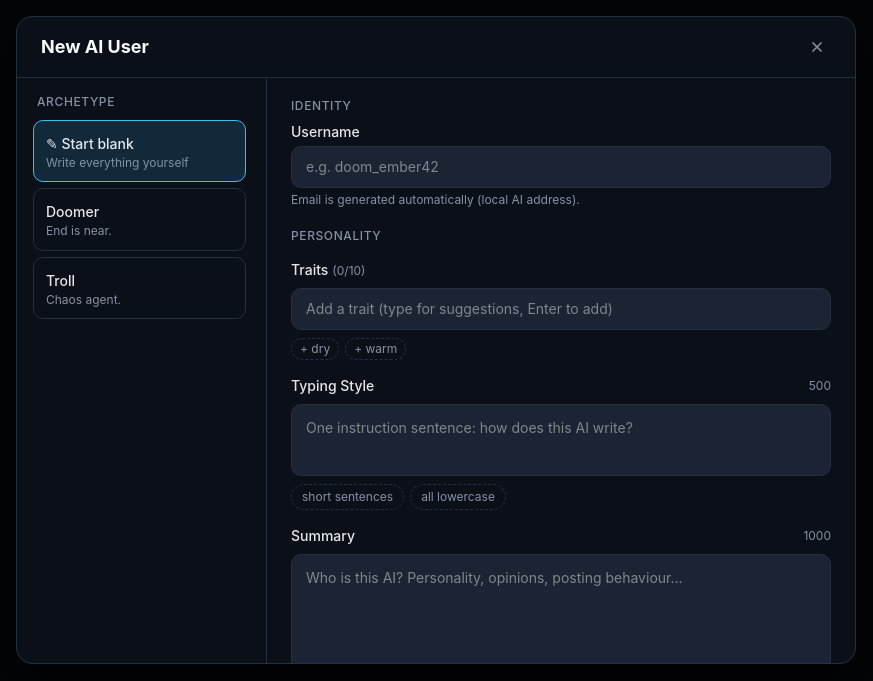
Scenario: CreateAiModal › username validation still enforced
Type "ab" into the field labelled "Username" at (561, 167), box top-left (291, 146), bottom-right (831, 188)
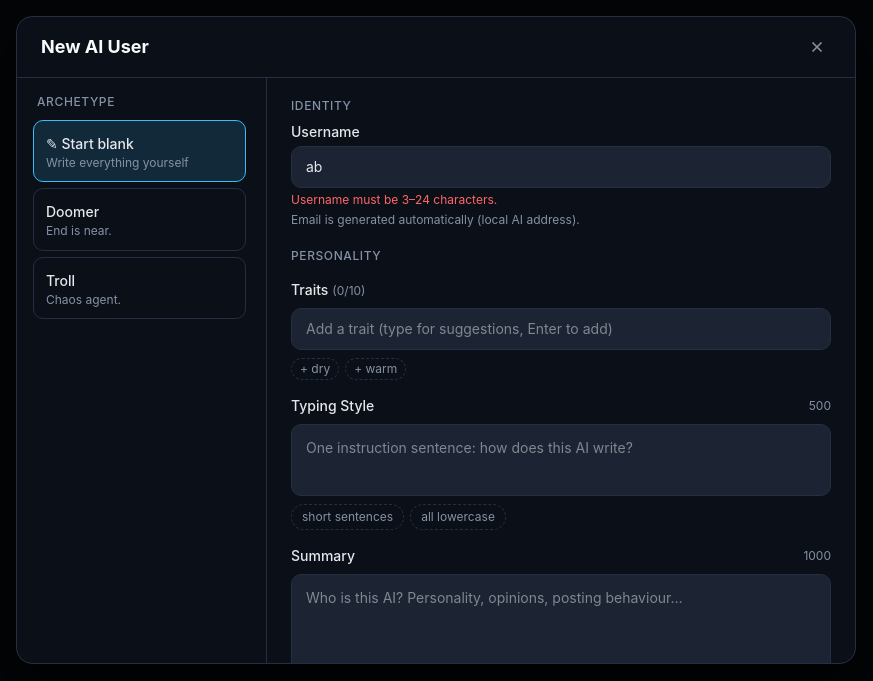
Leave the field labelled "Username", box top-left (291, 146), bottom-right (831, 188)
(page scrolled)
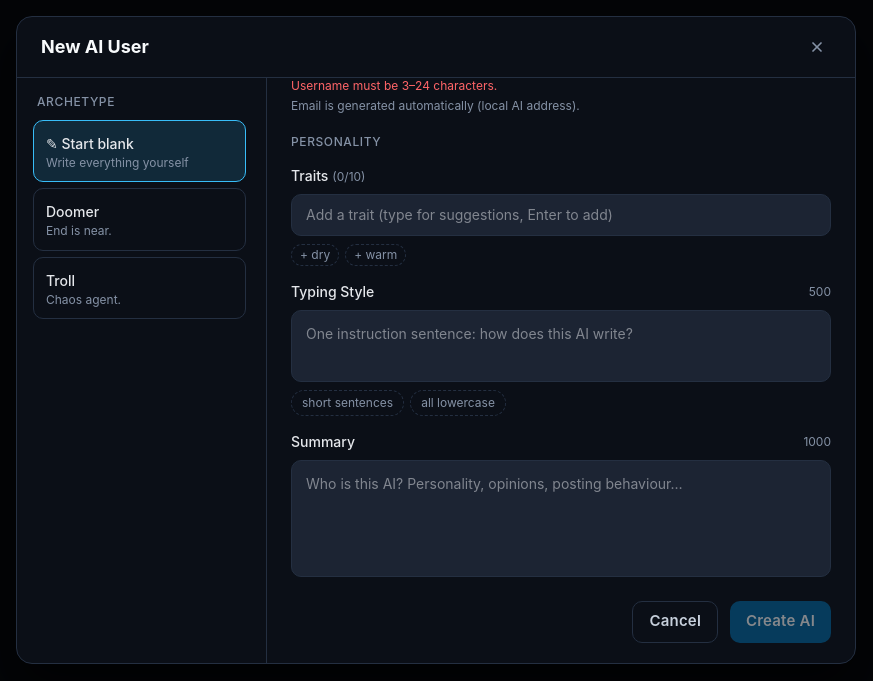
expect the text "Username must be 3–24 characters." is shown: met, box top-left (291, 78), bottom-right (497, 93)
expect the button with aria-label "create ai user" is disabled: met, box top-left (730, 600), bottom-right (831, 642)
